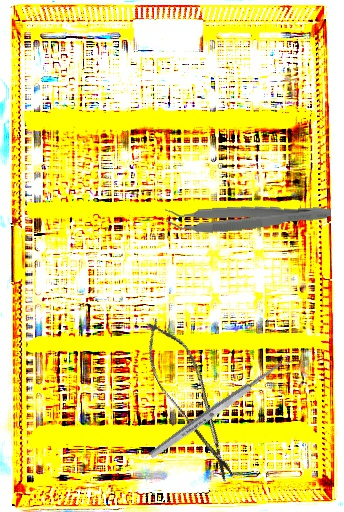Micro Scissor: (130, 309, 251, 490)
Surgical Spoon: (147, 353, 294, 461)
Tissue Forceps: (165, 195, 332, 236)
